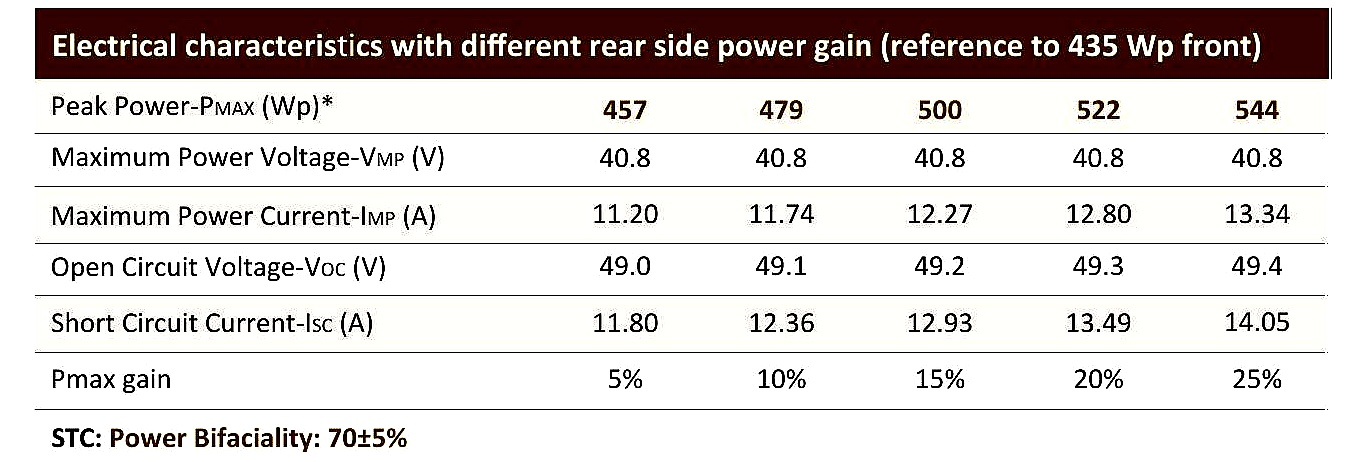table: (28, 4, 1338, 422)
table column: (34, 6, 532, 416), (534, 10, 710, 415), (874, 13, 1037, 415), (1036, 13, 1199, 413), (712, 11, 873, 413), (1200, 16, 1322, 413)
table name: (36, 12, 1323, 73)
table row: (35, 10, 1325, 76), (34, 189, 1326, 241), (36, 356, 1328, 406), (33, 300, 1332, 349), (37, 82, 1326, 130), (35, 247, 1332, 292), (37, 137, 1326, 182)
table row header: (36, 10, 535, 413)
table spanning cell: (38, 14, 1320, 74)
